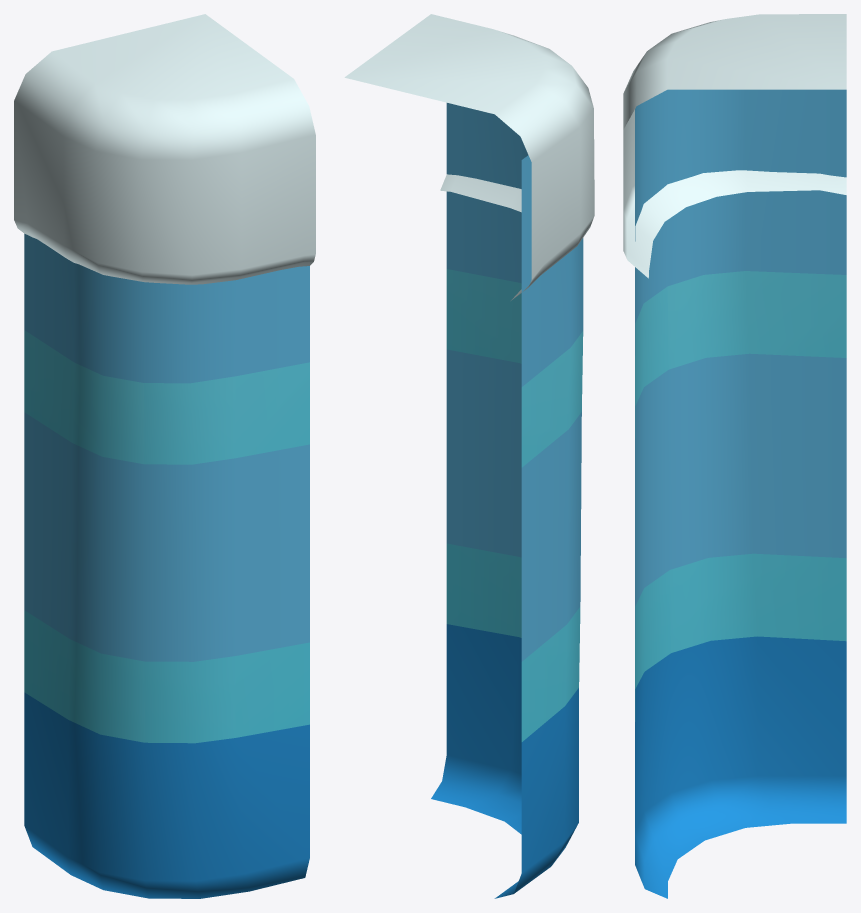
File: ice_wall_003.fbx
The picture shows the model from 3 angles, left to right: view 1: azimuth 30°, elevation 25°; view 2: azimuth 150°, elevation 25°; view 3: azimuth 270°, elevation 25°; orthographic projection. The views are drawn at different scales.
Visible parts, largest first — view 1: ice_wall_003; view 2: ice_wall_003; view 3: ice_wall_003.
Part boxes in pixels (<box>): ice_wall_003: <box>14,14,315,898</box>; ice_wall_003: <box>344,14,594,898</box>; ice_wall_003: <box>623,14,846,898</box>.
Bounding box in the file's own units: 100 × 100 × 400.
